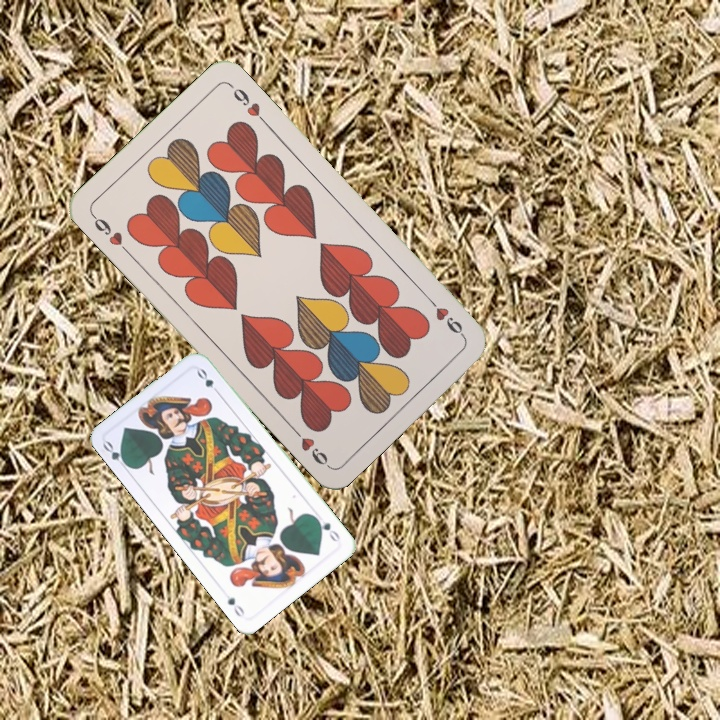GO: (99, 437, 132, 473), (311, 513, 343, 544)
H9: (423, 293, 468, 341), (88, 210, 133, 257)
